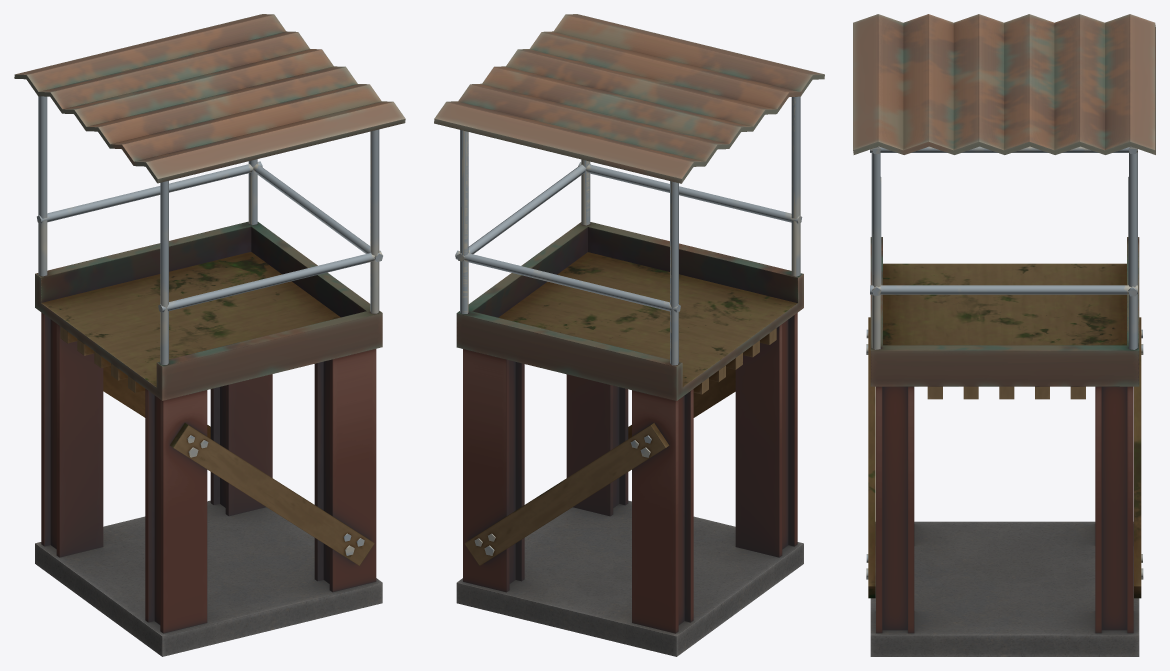
Rendered from WatchTower.fbx.
The picture shows the model from 3 angles, left to right: view 1: azimuth 30°, elevation 25°; view 2: azimuth 150°, elevation 25°; view 3: azimuth 270°, elevation 25°; orthographic projection. The views are drawn at different scales.
Parts seen in each view (by area): view 1: Cube.007; view 2: Cube.007; view 3: Cube.007.
Part boxes in pixels (x1,y1,x2,y2): Cube.007: (14,14,405,656); Cube.007: (434,14,824,656); Cube.007: (853,14,1155,656).
Size of the model in its own units: 2.87 by 5.48 by 2.88.
